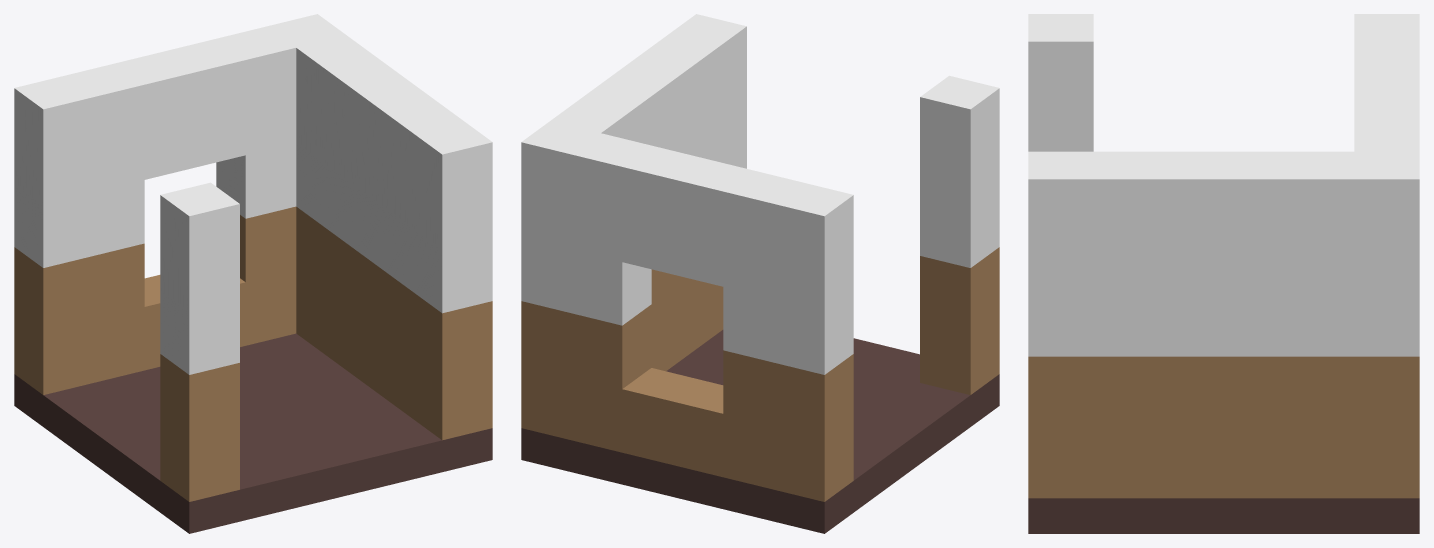
File: corridor_corner_window.FBX
The picture shows the model from 3 angles, left to right: view 1: azimuth 30°, elevation 25°; view 2: azimuth 150°, elevation 25°; view 3: azimuth 270°, elevation 25°; orthographic projection. The views are drawn at different scales.
Visible parts, largest first — view 1: Object196; view 2: Object196; view 3: Object196.
Boxes of the visible parts, <box> form: Object196: <box>14,14,492,533</box>; Object196: <box>521,14,999,533</box>; Object196: <box>1028,14,1419,533</box>.
Bounding box in the file's own units: 100 × 100 × 100.
